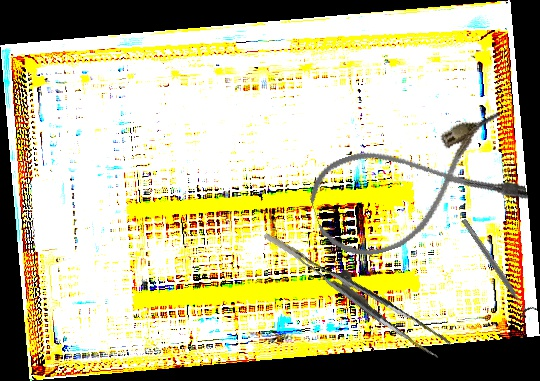Cannula: (301, 107, 531, 269)
Fixation Ring: (456, 214, 538, 320)
Tissue Forceps: (263, 204, 452, 376)
